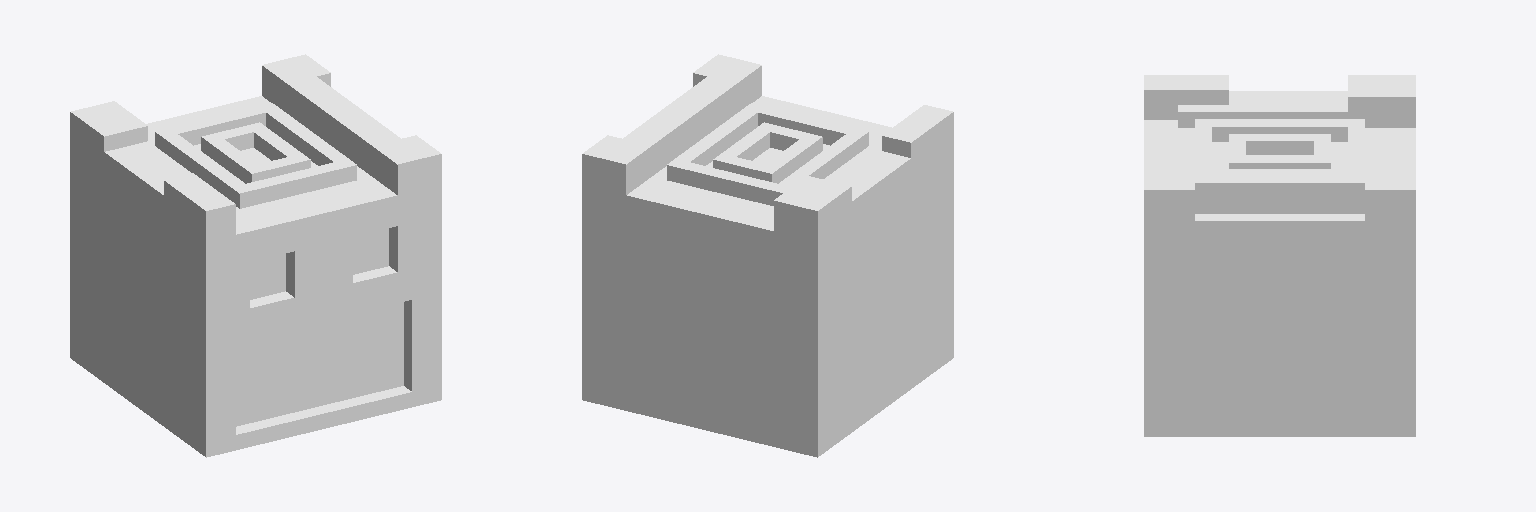
The model's file is palancaholder.obj.
The picture shows the model from 3 angles: view 1: azimuth 30°, elevation 25°; view 2: azimuth 150°, elevation 25°; view 3: azimuth 270°, elevation 25°; orthographic projection.
Parts seen in each view (by area): view 1: palancaholder; view 2: palancaholder; view 3: palancaholder.
Boxes of the visible parts, x1,y1,x2,y2 form: palancaholder: [70, 54, 441, 457]; palancaholder: [582, 54, 953, 457]; palancaholder: [1144, 75, 1415, 436].
Bounding box in the file's own units: 16 × 16 × 16.